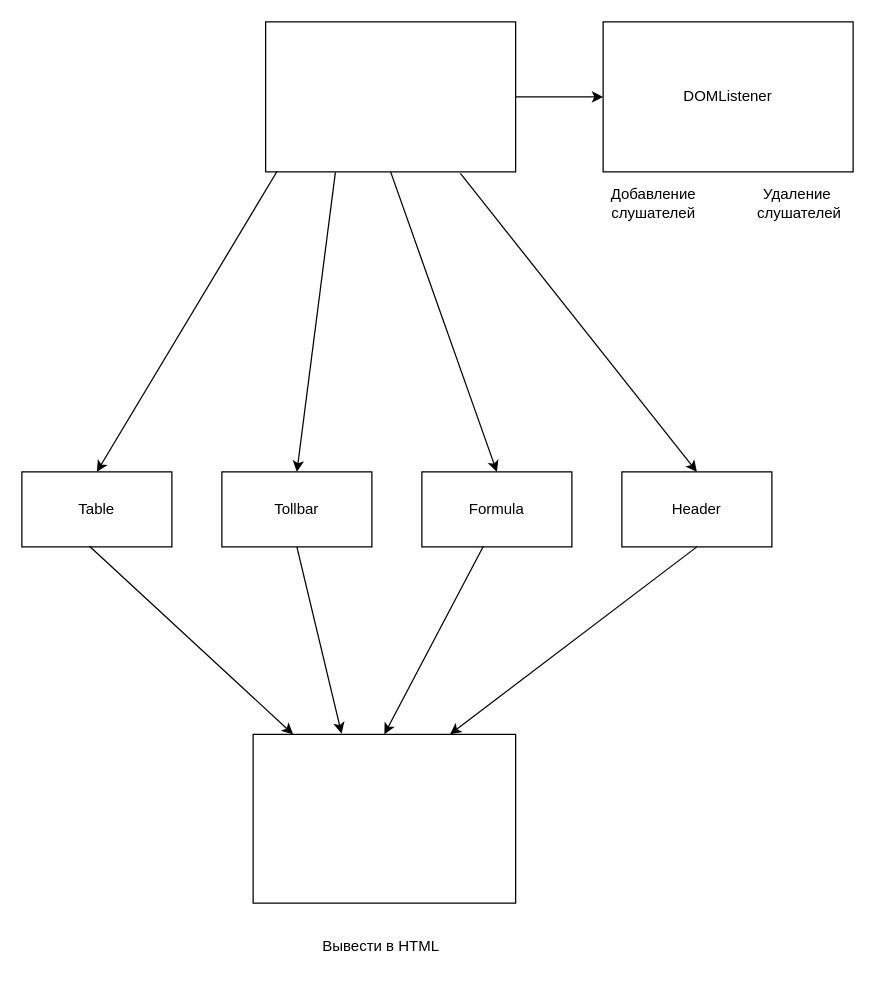
Some shapes in this 875 by 981 pixel diagram are drawn without their labels. The shapes that lost their labels are listed below. From the top down, each one's centre as x and y in pixels, then its label:
(x=390, y=96): ExcelComponent
(x=384, y=818): Excel
